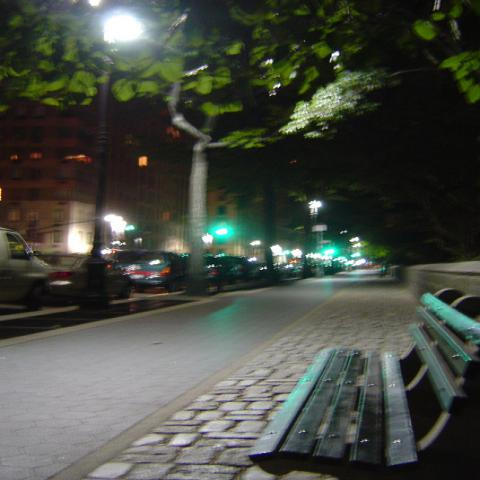car: (0, 226, 57, 314), (38, 253, 136, 302), (115, 250, 186, 293), (222, 256, 262, 282), (206, 255, 225, 292), (253, 262, 280, 280), (274, 264, 298, 278), (290, 261, 305, 276), (311, 267, 316, 276)
